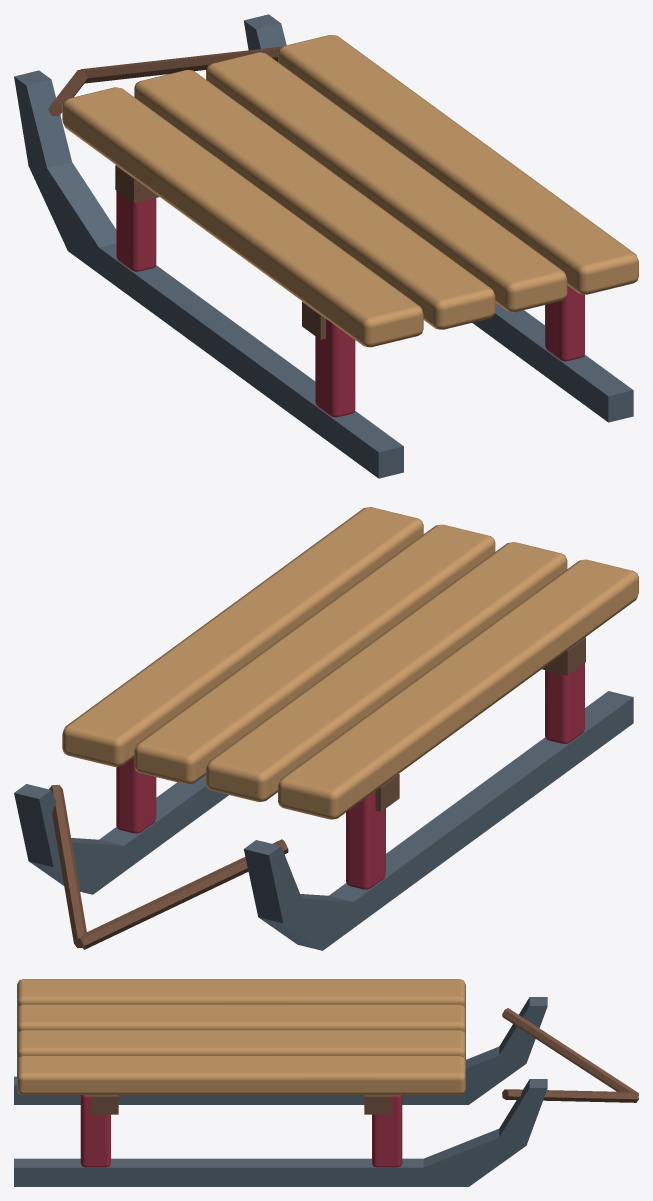
The model's file is alpine-snow-village-carved-runner-sled-ffc9dd07__19814.glb.
3 renders of one model, top to bottom at view 1: azimuth 30°, elevation 25°; view 2: azimuth 150°, elevation 25°; view 3: azimuth 270°, elevation 25°, orthographic. The views are drawn at different scales.
Parts seen in each view (by area): view 1: carved-runner-sled-oak, carved-runner-sled-iron, carved-runner-sled-berry, carved-runner-sled-wood; view 2: carved-runner-sled-oak, carved-runner-sled-iron, carved-runner-sled-berry, carved-runner-sled-wood; view 3: carved-runner-sled-oak, carved-runner-sled-iron, carved-runner-sled-wood, carved-runner-sled-berry.
Boxes of the visible parts, <box> form: carved-runner-sled-oak: <box>62,35,638,347</box>; carved-runner-sled-iron: <box>14,14,633,478</box>; carved-runner-sled-berry: <box>116,190,584,417</box>; carved-runner-sled-wood: <box>48,46,325,339</box>; carved-runner-sled-oak: <box>62,507,638,819</box>; carved-runner-sled-iron: <box>14,691,633,950</box>; carved-runner-sled-berry: <box>116,663,584,889</box>; carved-runner-sled-wood: <box>49,637,585,949</box>; carved-runner-sled-oak: <box>17,979,465,1094</box>; carved-runner-sled-iron: <box>14,997,547,1186</box>; carved-runner-sled-wood: <box>91,1008,638,1114</box>; carved-runner-sled-berry: <box>80,1095,402,1167</box>.
Bounding box in the file's own units: 0.7701 × 0.42 × 2.06.
